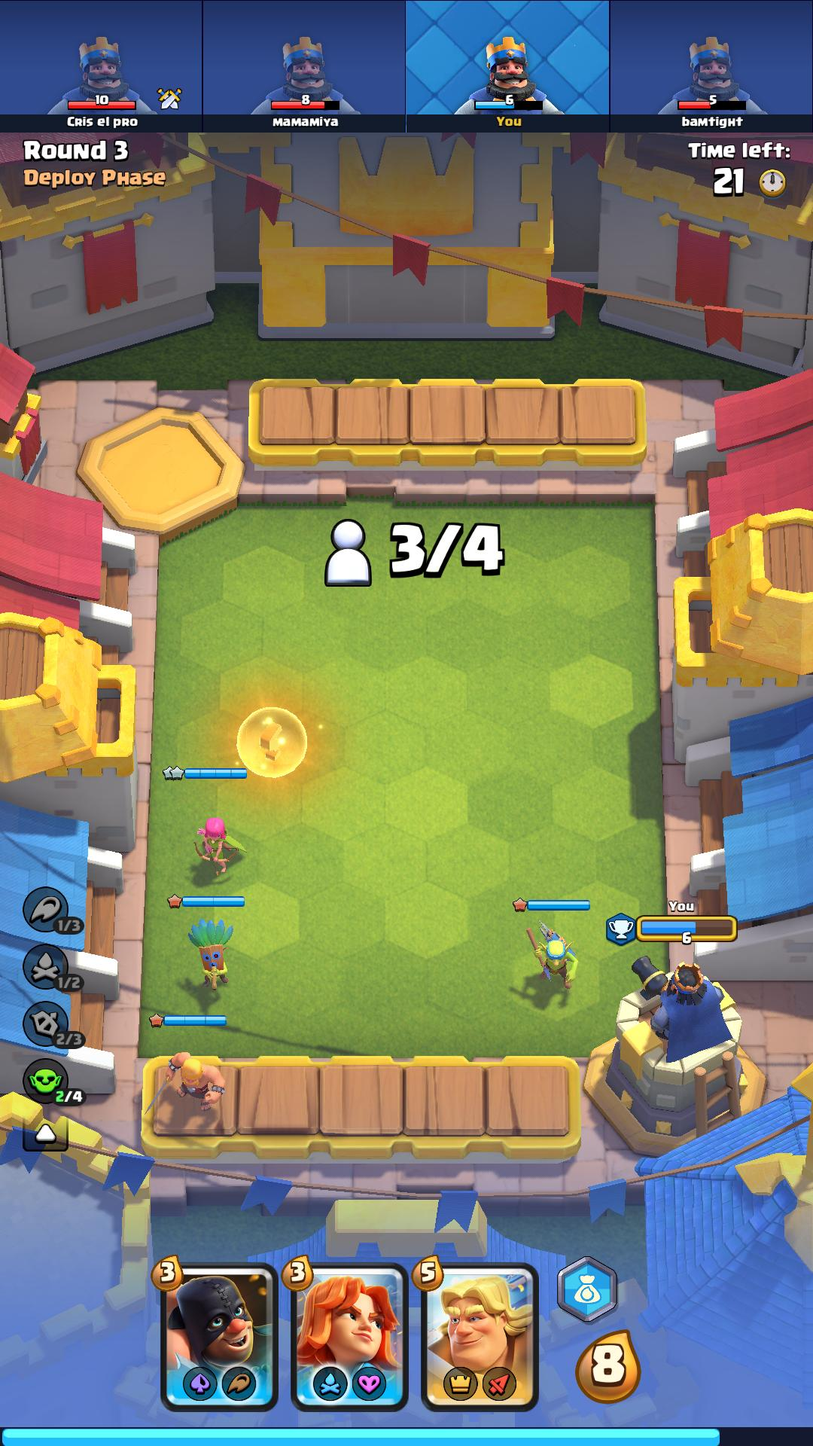archer: (186, 810, 250, 877)
barbarian: (142, 1044, 243, 1118)
dart: (180, 916, 240, 992)
hand-executioner: (161, 1268, 280, 1407)
hand-golden: (422, 1267, 538, 1407)
hand-valkyrie: (294, 1265, 409, 1410)
orb: (226, 703, 314, 786)
spear: (516, 915, 591, 990)
